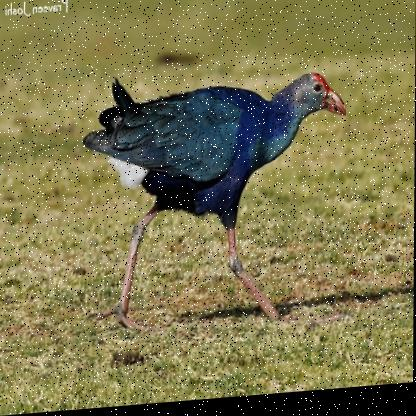Burung: (81, 61, 358, 341)
